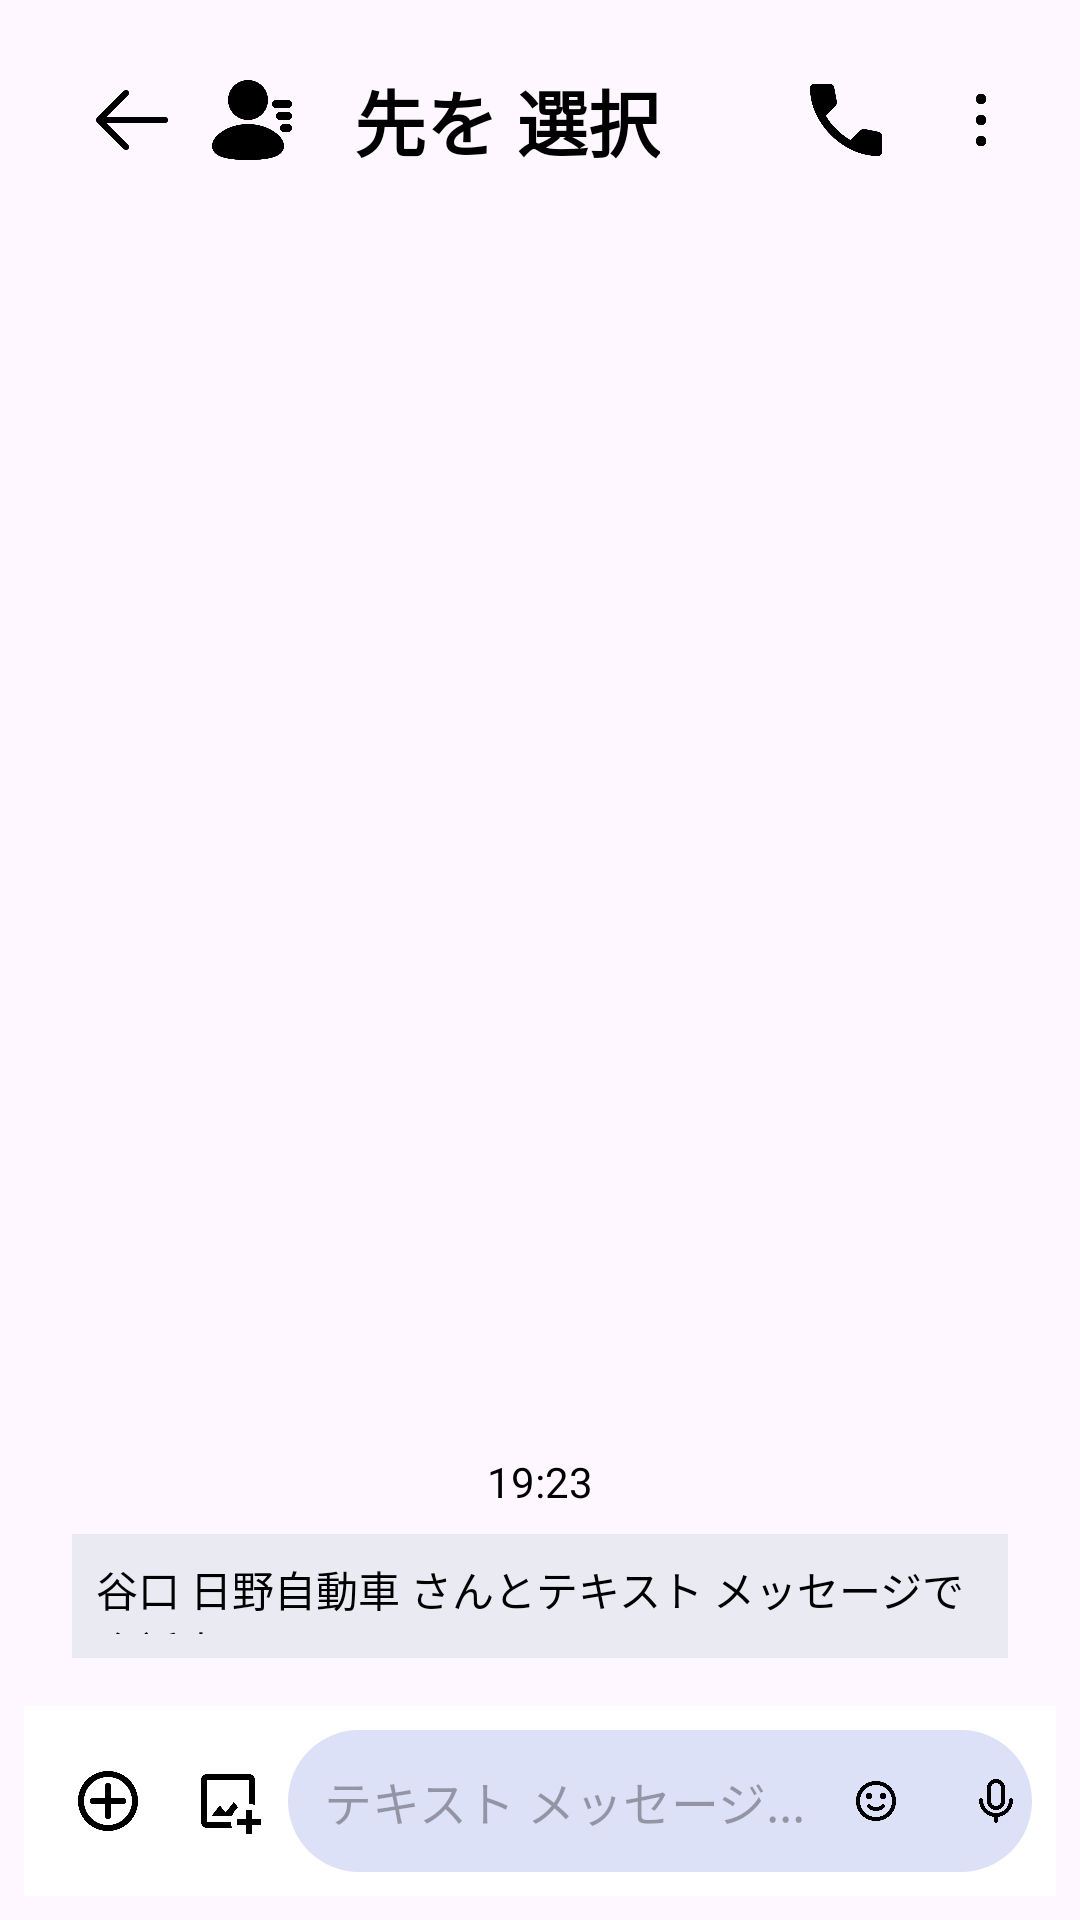

Icons on this 1080 × 1920 Android screen, each with the point to tap as [x,y]:
Attach Image: [231,1804]
back arrow: [132,120]
call: [846,120]
contact: [252,120]
Emoji: [876,1801]
Voice Recognition: [996,1801]
